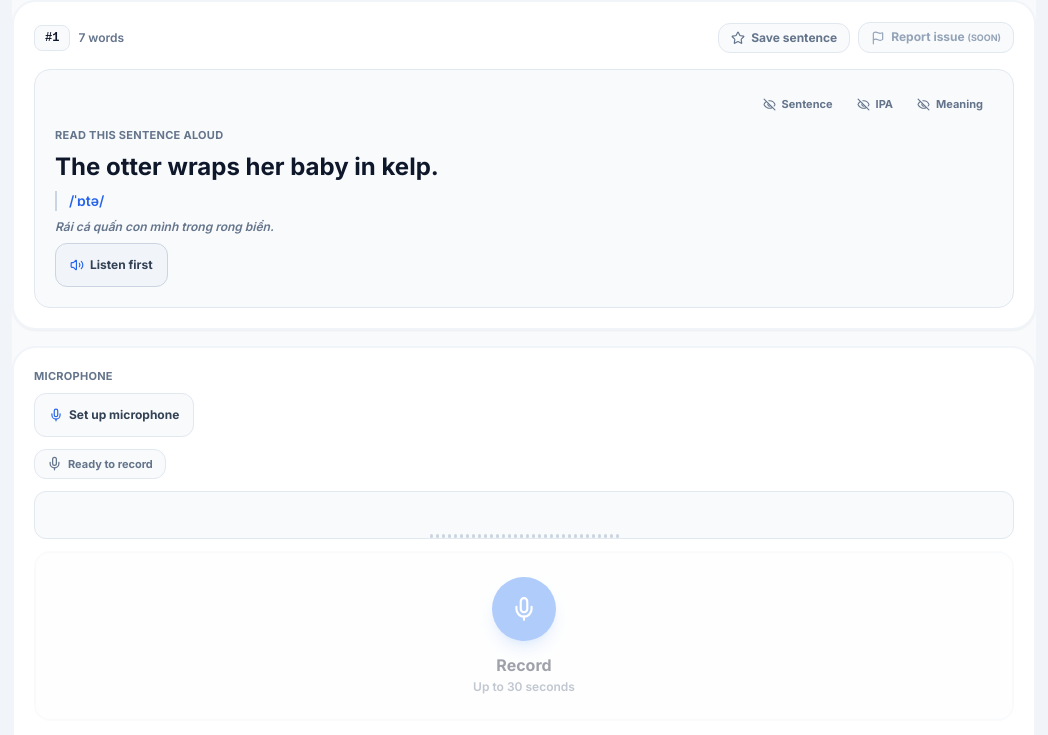
Test case: ShadowingModePanel — record, stop, replay, retry › records on a click and swaps Record for Stop
Click the button "Set up microphone": (114, 414) x1=34 y1=392 x2=194 y2=436
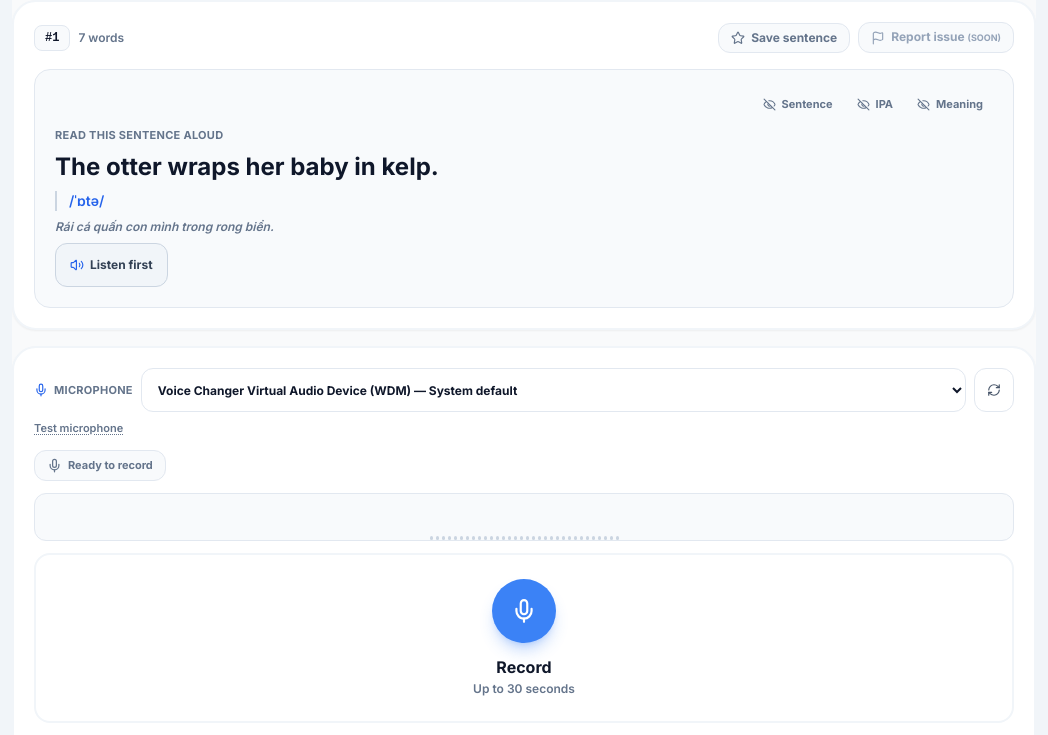
Click the button "Record Up to 30 seconds": (524, 638) x1=34 y1=552 x2=1014 y2=722
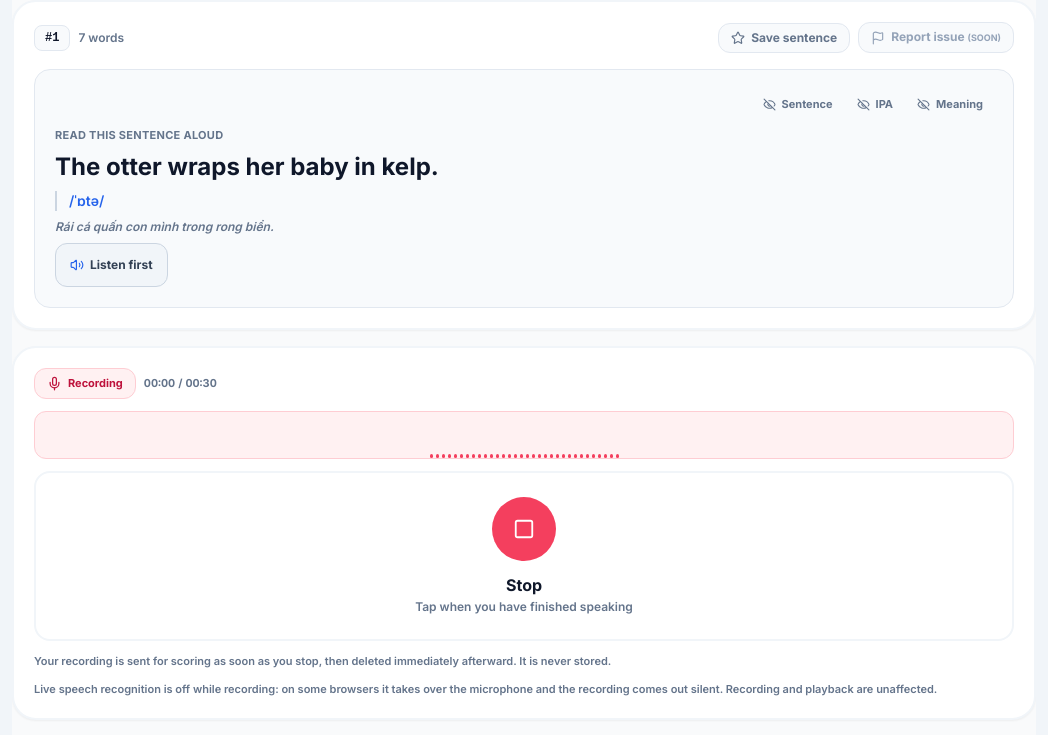
expect the button "Stop Tap when you have finished speaking" is shown: met, box x1=34 y1=470 x2=1014 y2=640
expect the text "Recording" is shown: met, box x1=68 y1=375 x2=123 y2=392
